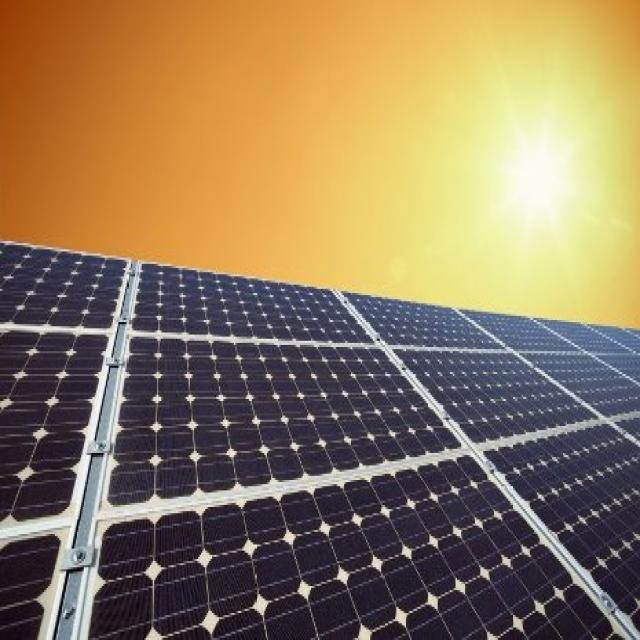no faulty: (0, 311, 638, 640)
